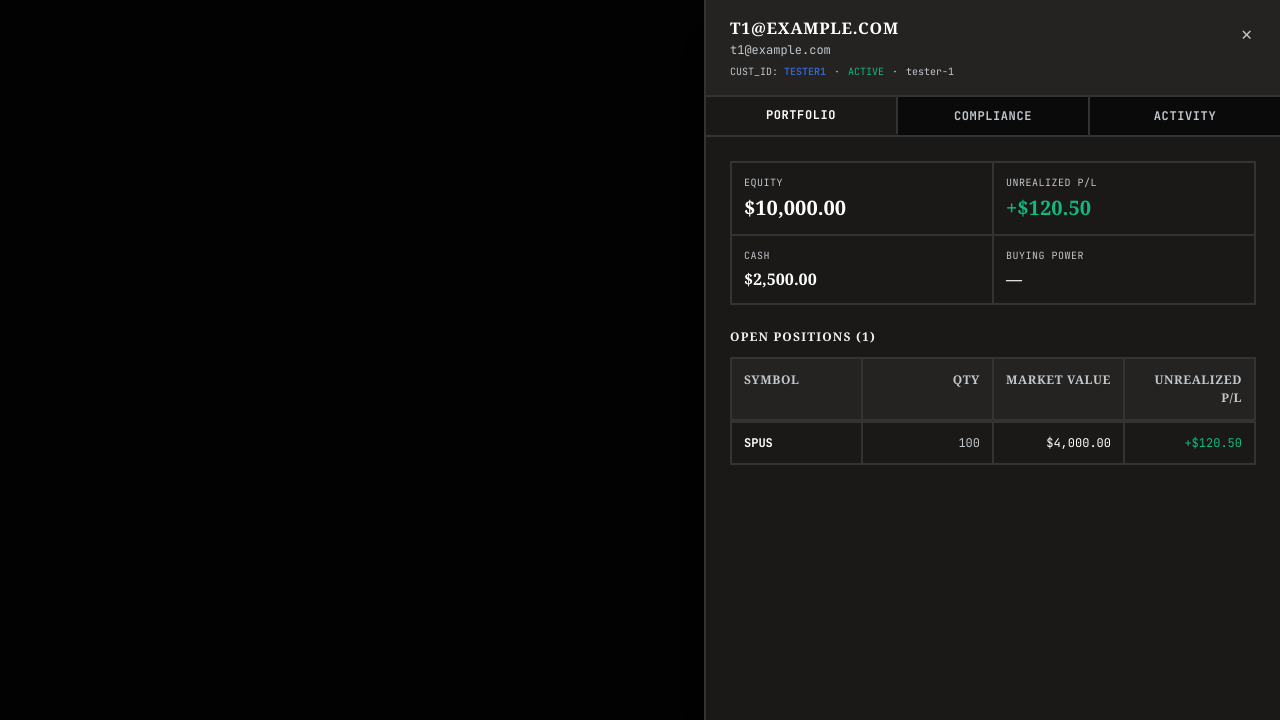
TesterDrawer › fetches each tab's data exactly once when switched to
Check: the text "$10,000.00" is shown, box [744,194,846,221]
Click the tab "Compliance" at (994, 116), box [898,97,1090,135]
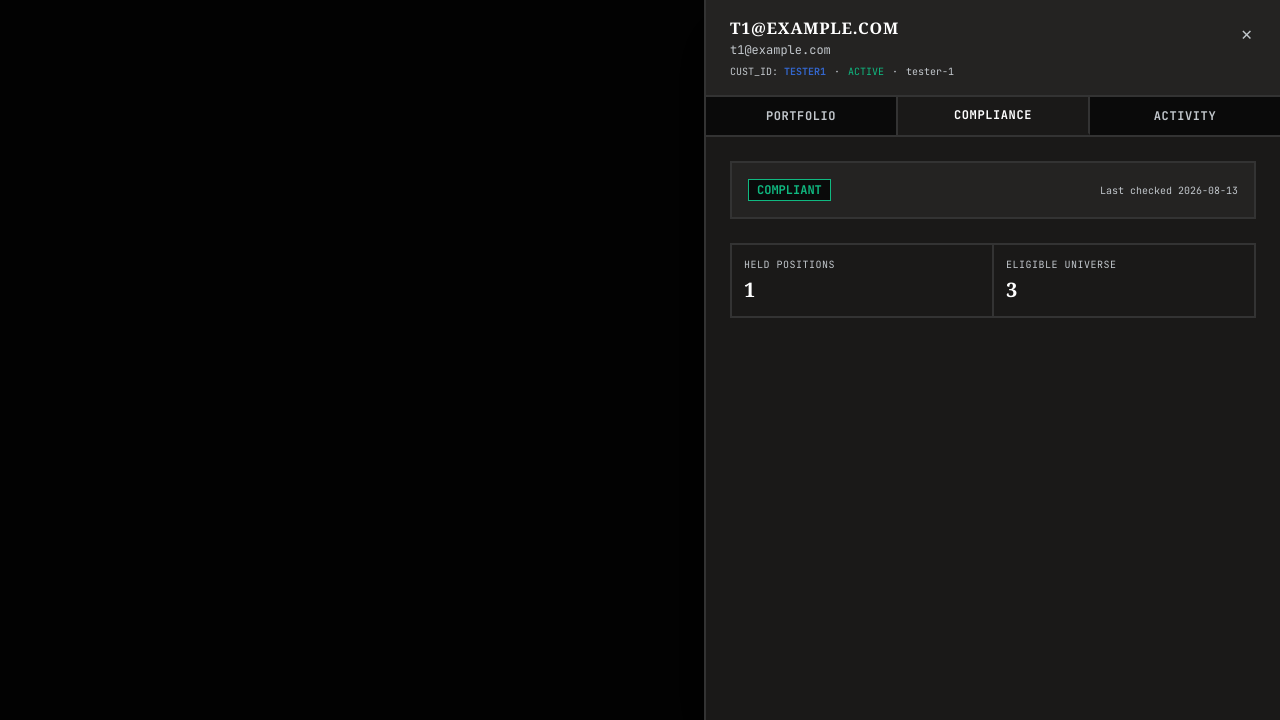
Check: the text "Compliant" is shown, box [748,179,831,201]
Click the tab "Activity" at (1185, 116), box [1090,97,1279,135]
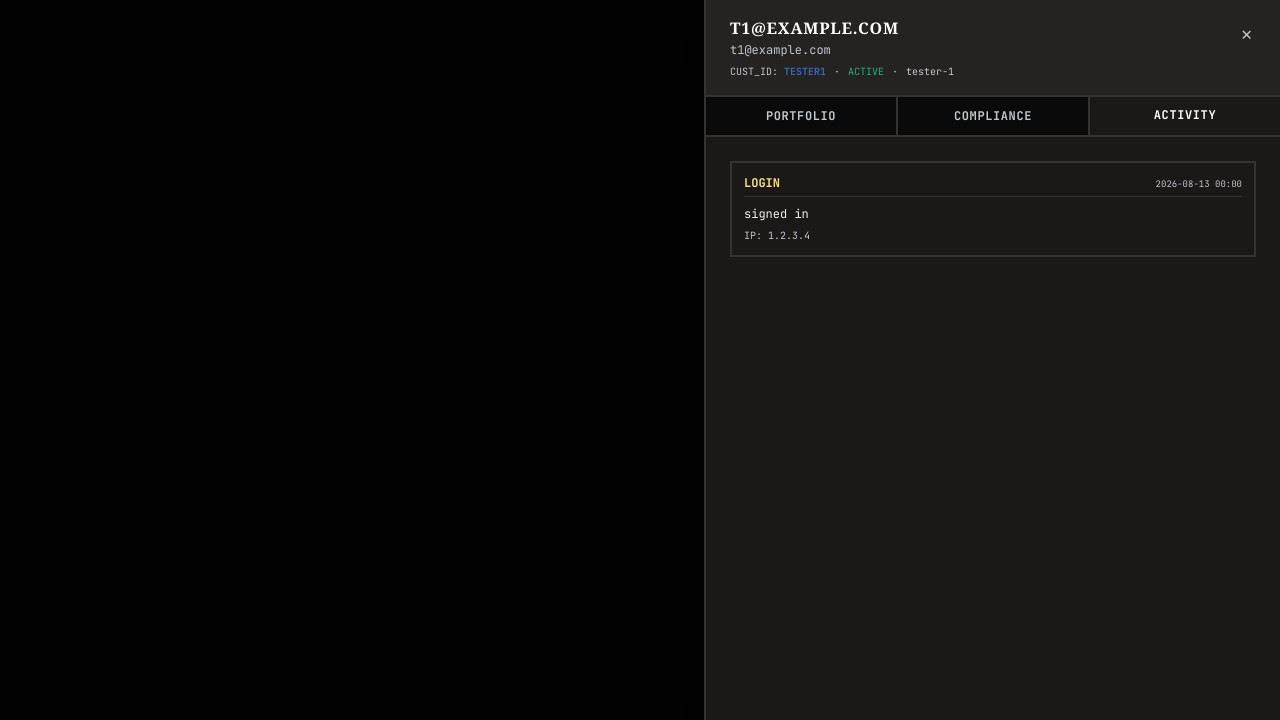
Check: the text "LOGIN" is shown, box [744,175,780,191]
Switching back re-mounts the tab: one fresh fetch, never a loop.
Click the tab "Portfolio" at (802, 116), box [706,97,898,135]
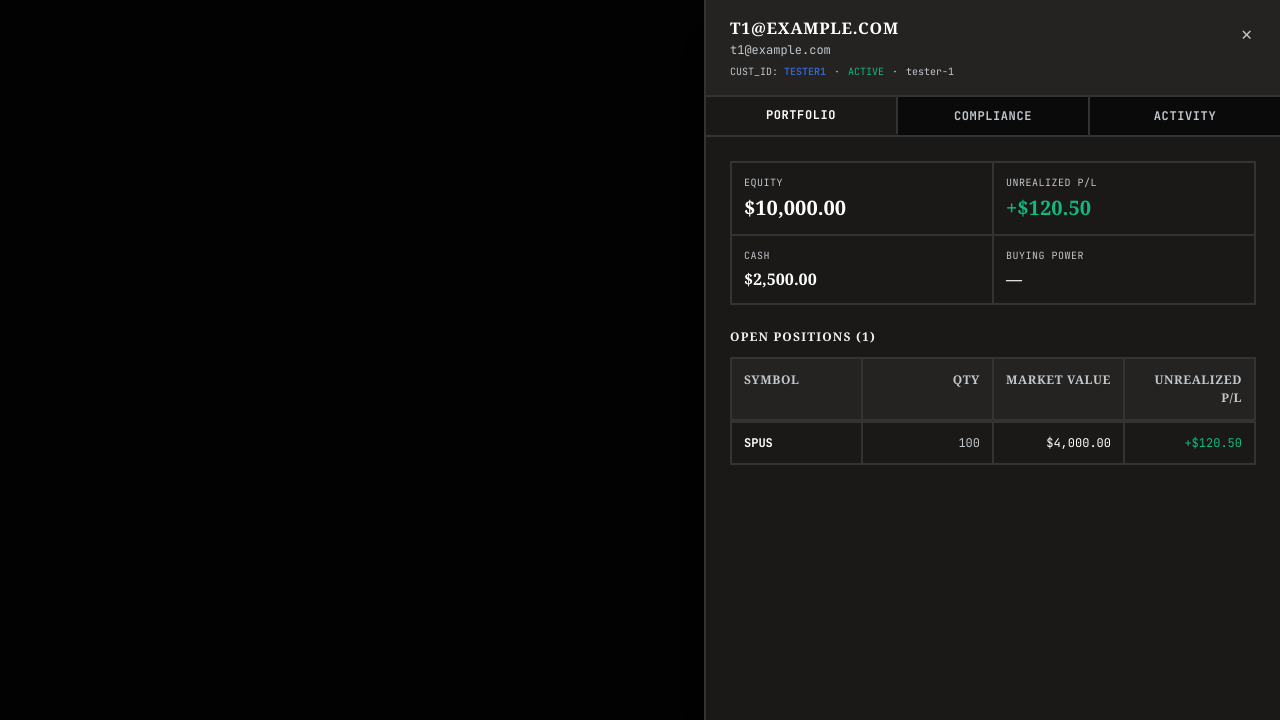
Check: the text "$10,000.00" is shown, box [744,194,846,221]
